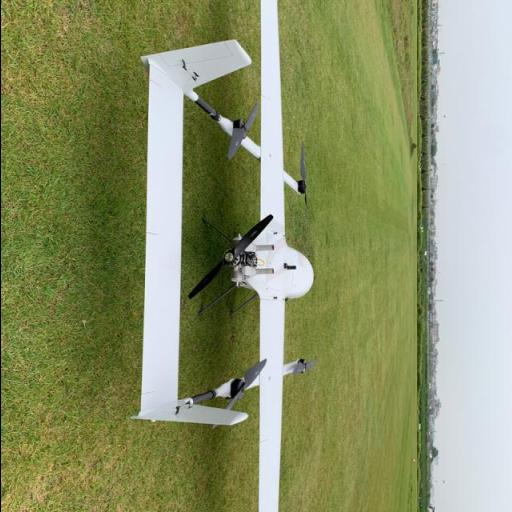uav: (99, 0, 326, 511)
